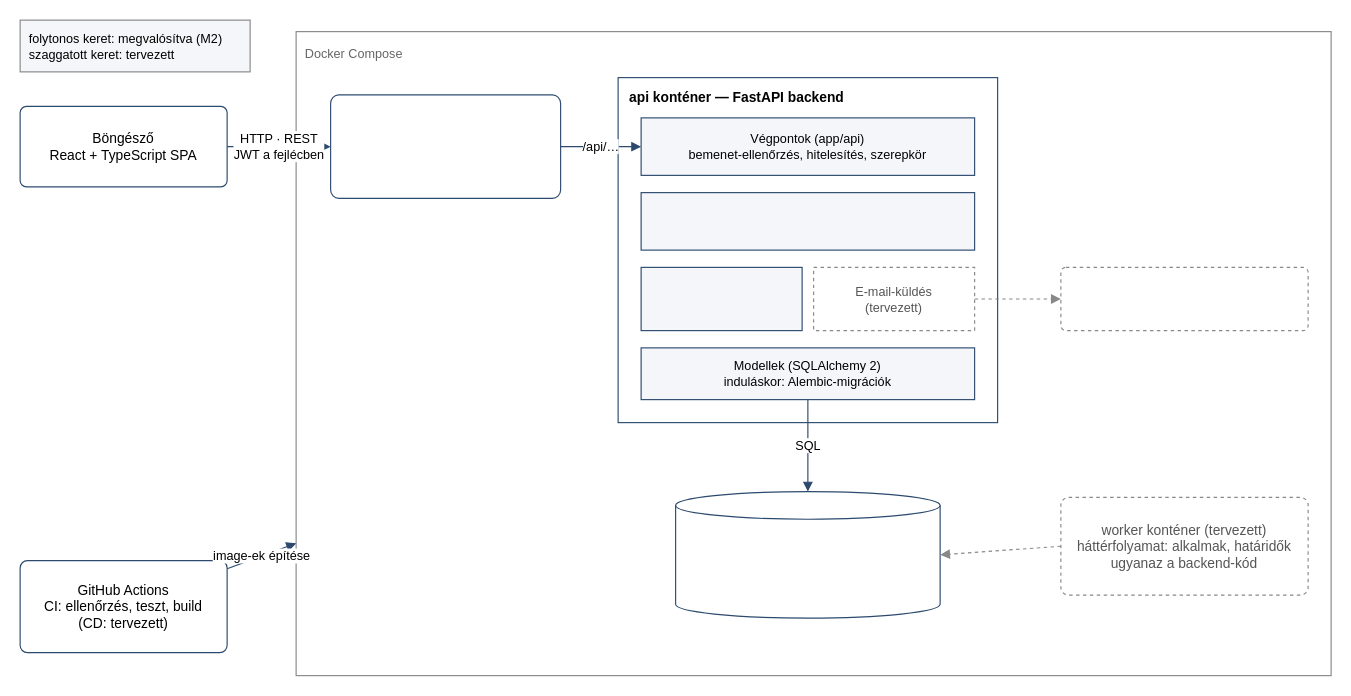
The diagram is 1351 pixels wide and 696 high, and some of its shapes have lost their labels. Here are the shapes that lost their labels. From the top down, the centre of each, then its label:
the point at 445,146: frontend konténer nginx: a lefordított felület + /api továbbítása
the point at 807,220: Szolgáltatások (app/services) rögzítés, státusz, hozzáférés-ellenőrzés
the point at 721,298: Szabálymotor (services/rules.py, tranzakción belül)
the point at 1184,298: Mailpit (tervezett) fejlesztői SMTP-postafiók
the point at 807,554: db konténer PostgreSQL 17
